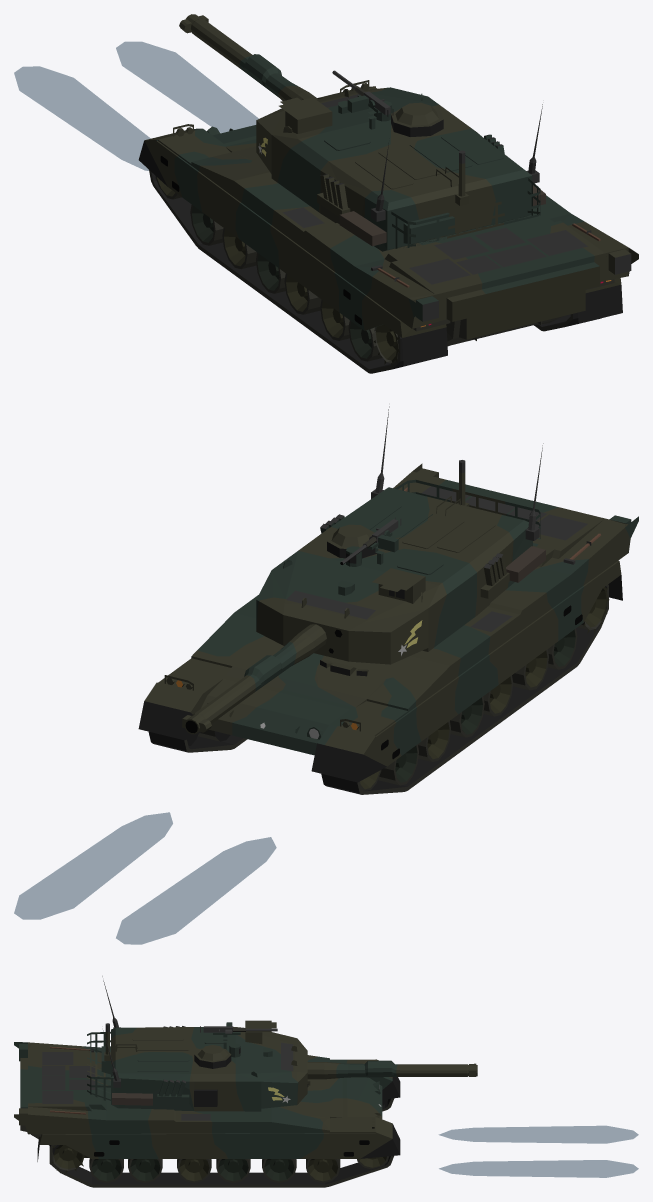
3 views of the same model, one above another, from view 1: azimuth 30°, elevation 25°; view 2: azimuth 150°, elevation 25°; view 3: azimuth 270°, elevation 25° (orthographic). The views are drawn at different scales.
Parts seen in each view (by area): view 1: ShapeIndexedFaceSet.019_ShapeIndexedFaceSet.020, ShapeIndexedFaceSet.001_ShapeIndexedFaceSet.002, ShapeIndexedFaceSet_ShapeIndexedFaceSet.001, ShapeIndexedFaceSet.018_ShapeIndexedFaceSet.019, ShapeIndexedFaceSet.076_ShapeIndexedFaceSet.077, ShapeIndexedFaceSet.024_ShapeIndexedFaceSet.025, ShapeIndexedFaceSet.021_ShapeIndexedFaceSet.022, ShapeIndexedFaceSet.020_ShapeIndexedFaceSet.021, ShapeIndexedFaceSet.022_ShapeIndexedFaceSet.023, ShapeIndexedFaceSet.016_ShapeIndexedFaceSet.017, ShapeIndexedFaceSet.003_ShapeIndexedFaceSet.004, ShapeIndexedFaceSet.015_ShapeIndexedFaceSet.016 (+9 smaller); view 2: ShapeIndexedFaceSet.019_ShapeIndexedFaceSet.020, ShapeIndexedFaceSet.018_ShapeIndexedFaceSet.019, ShapeIndexedFaceSet.001_ShapeIndexedFaceSet.002, ShapeIndexedFaceSet_ShapeIndexedFaceSet.001, ShapeIndexedFaceSet.076_ShapeIndexedFaceSet.077, ShapeIndexedFaceSet.021_ShapeIndexedFaceSet.022, ShapeIndexedFaceSet.016_ShapeIndexedFaceSet.017, ShapeIndexedFaceSet.020_ShapeIndexedFaceSet.021, ShapeIndexedFaceSet.002_ShapeIndexedFaceSet.003, ShapeIndexedFaceSet.022_ShapeIndexedFaceSet.023, ShapeIndexedFaceSet.015_ShapeIndexedFaceSet.016, ShapeIndexedFaceSet.003_ShapeIndexedFaceSet.004; view 3: ShapeIndexedFaceSet.018_ShapeIndexedFaceSet.019, ShapeIndexedFaceSet.019_ShapeIndexedFaceSet.020, ShapeIndexedFaceSet_ShapeIndexedFaceSet.001, ShapeIndexedFaceSet.001_ShapeIndexedFaceSet.002, ShapeIndexedFaceSet.076_ShapeIndexedFaceSet.077, ShapeIndexedFaceSet.021_ShapeIndexedFaceSet.022, ShapeIndexedFaceSet.020_ShapeIndexedFaceSet.021, ShapeIndexedFaceSet.016_ShapeIndexedFaceSet.017, ShapeIndexedFaceSet.022_ShapeIndexedFaceSet.023, ShapeIndexedFaceSet.015_ShapeIndexedFaceSet.016, ShapeIndexedFaceSet.002_ShapeIndexedFaceSet.003, ShapeIndexedFaceSet.004_ShapeIndexedFaceSet.005 (+9 smaller).
Boxes of the visible parts, <box> form: ShapeIndexedFaceSet.019_ShapeIndexedFaceSet.020: <box>144,80,638,337</box>; ShapeIndexedFaceSet.001_ShapeIndexedFaceSet.002: <box>256,88,504,240</box>; ShapeIndexedFaceSet_ShapeIndexedFaceSet.001: <box>277,87,540,251</box>; ShapeIndexedFaceSet.018_ShapeIndexedFaceSet.019: <box>156,125,599,330</box>; ShapeIndexedFaceSet.076_ShapeIndexedFaceSet.077: <box>14,41,258,170</box>; ShapeIndexedFaceSet.024_ShapeIndexedFaceSet.025: <box>400,266,621,339</box>; ShapeIndexedFaceSet.021_ShapeIndexedFaceSet.022: <box>138,141,622,369</box>; ShapeIndexedFaceSet.020_ShapeIndexedFaceSet.021: <box>282,207,631,321</box>; ShapeIndexedFaceSet.022_ShapeIndexedFaceSet.023: <box>149,170,614,373</box>; ShapeIndexedFaceSet.016_ShapeIndexedFaceSet.017: <box>179,14,357,102</box>; ShapeIndexedFaceSet.003_ShapeIndexedFaceSet.004: <box>339,185,545,246</box>; ShapeIndexedFaceSet.015_ShapeIndexedFaceSet.016: <box>239,54,298,97</box>; ShapeIndexedFaceSet.019_ShapeIndexedFaceSet.020: <box>144,463,630,766</box>; ShapeIndexedFaceSet.018_ShapeIndexedFaceSet.019: <box>197,480,638,755</box>; ShapeIndexedFaceSet.001_ShapeIndexedFaceSet.002: <box>256,472,513,664</box>; ShapeIndexedFaceSet_ShapeIndexedFaceSet.001: <box>256,479,540,647</box>; ShapeIndexedFaceSet.076_ShapeIndexedFaceSet.077: <box>14,812,276,944</box>; ShapeIndexedFaceSet.021_ShapeIndexedFaceSet.022: <box>138,575,622,794</box>; ShapeIndexedFaceSet.016_ShapeIndexedFaceSet.017: <box>182,603,357,734</box>; ShapeIndexedFaceSet.020_ShapeIndexedFaceSet.021: <box>422,486,591,631</box>; ShapeIndexedFaceSet.002_ShapeIndexedFaceSet.003: <box>286,406,543,619</box>; ShapeIndexedFaceSet.022_ShapeIndexedFaceSet.023: <box>184,584,608,794</box>; ShapeIndexedFaceSet.015_ShapeIndexedFaceSet.016: <box>244,642,296,692</box>; ShapeIndexedFaceSet.003_ShapeIndexedFaceSet.004: <box>506,546,545,582</box>; ShapeIndexedFaceSet.018_ShapeIndexedFaceSet.019: <box>14,1042,392,1158</box>; ShapeIndexedFaceSet.019_ShapeIndexedFaceSet.020: <box>14,1042,392,1158</box>; ShapeIndexedFaceSet_ShapeIndexedFaceSet.001: <box>87,1027,298,1111</box>; ShapeIndexedFaceSet.001_ShapeIndexedFaceSet.002: <box>87,1020,307,1111</box>; ShapeIndexedFaceSet.076_ShapeIndexedFaceSet.077: <box>438,1125,638,1177</box>; ShapeIndexedFaceSet.021_ShapeIndexedFaceSet.022: <box>37,1077,400,1184</box>; ShapeIndexedFaceSet.020_ShapeIndexedFaceSet.021: <box>42,1047,210,1120</box>; ShapeIndexedFaceSet.016_ShapeIndexedFaceSet.017: <box>294,1048,477,1079</box>; ShapeIndexedFaceSet.022_ShapeIndexedFaceSet.023: <box>20,1098,394,1187</box>; ShapeIndexedFaceSet.015_ShapeIndexedFaceSet.016: <box>336,1060,397,1078</box>; ShapeIndexedFaceSet.002_ShapeIndexedFaceSet.003: <box>102,976,293,1087</box>; ShapeIndexedFaceSet.004_ShapeIndexedFaceSet.005: <box>194,1048,240,1106</box>.
Size of the model in its own units: 169 by 165 by 606.
